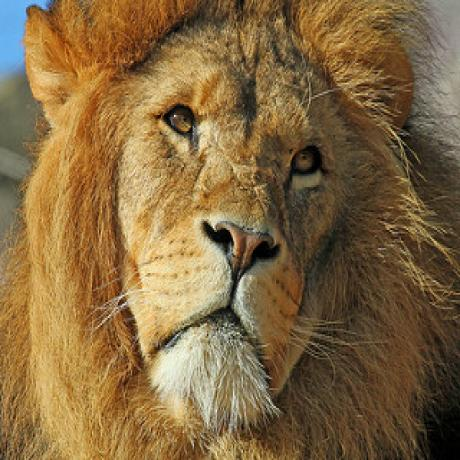Lion: (3, 0, 460, 460)
